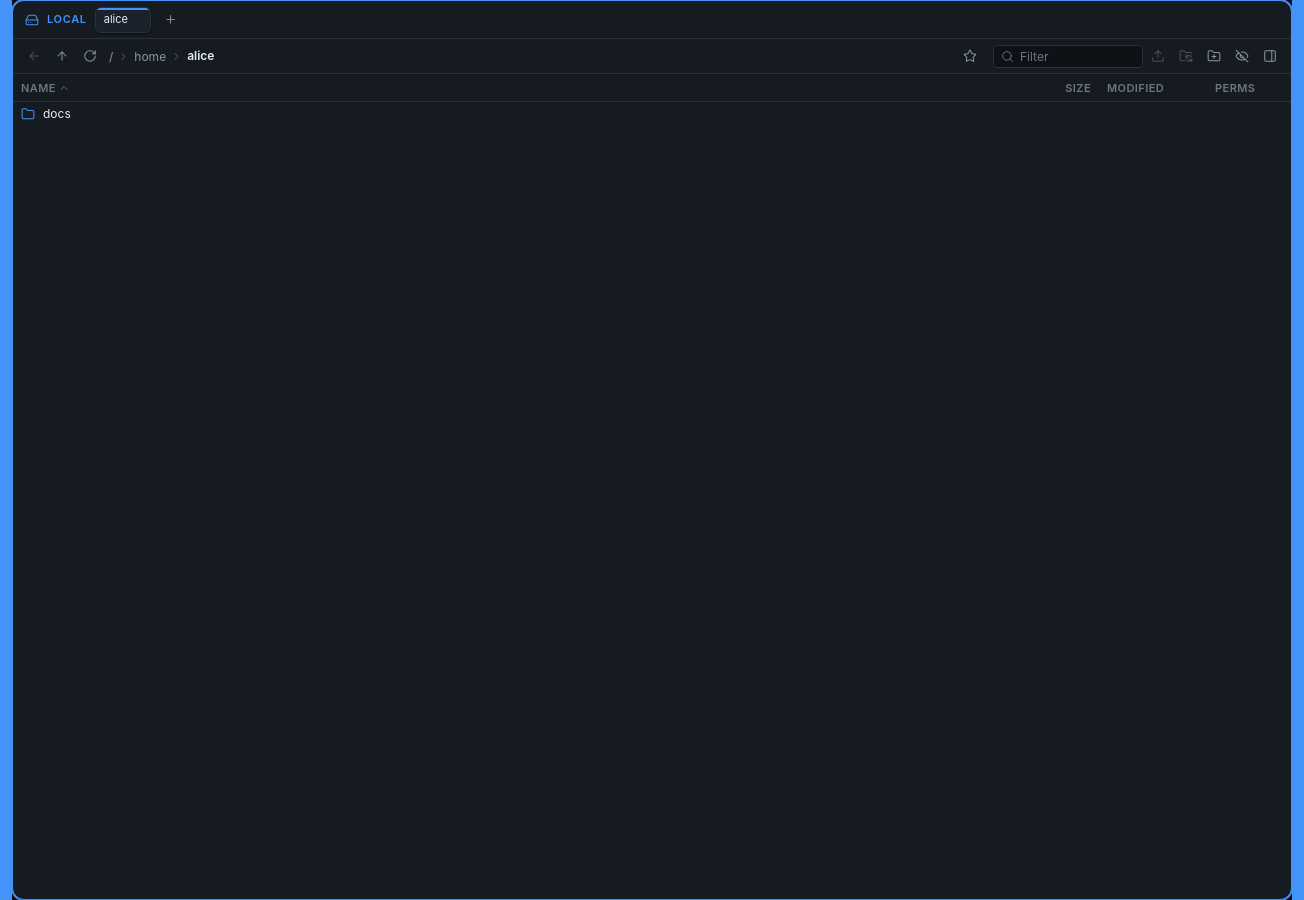
Scenario: Up in a pane › selects the folder you came from
Expected: the text "docs" is shown, [43,105,71,123]
Click the button named "Up" at (62, 56), box [49,43,75,69]
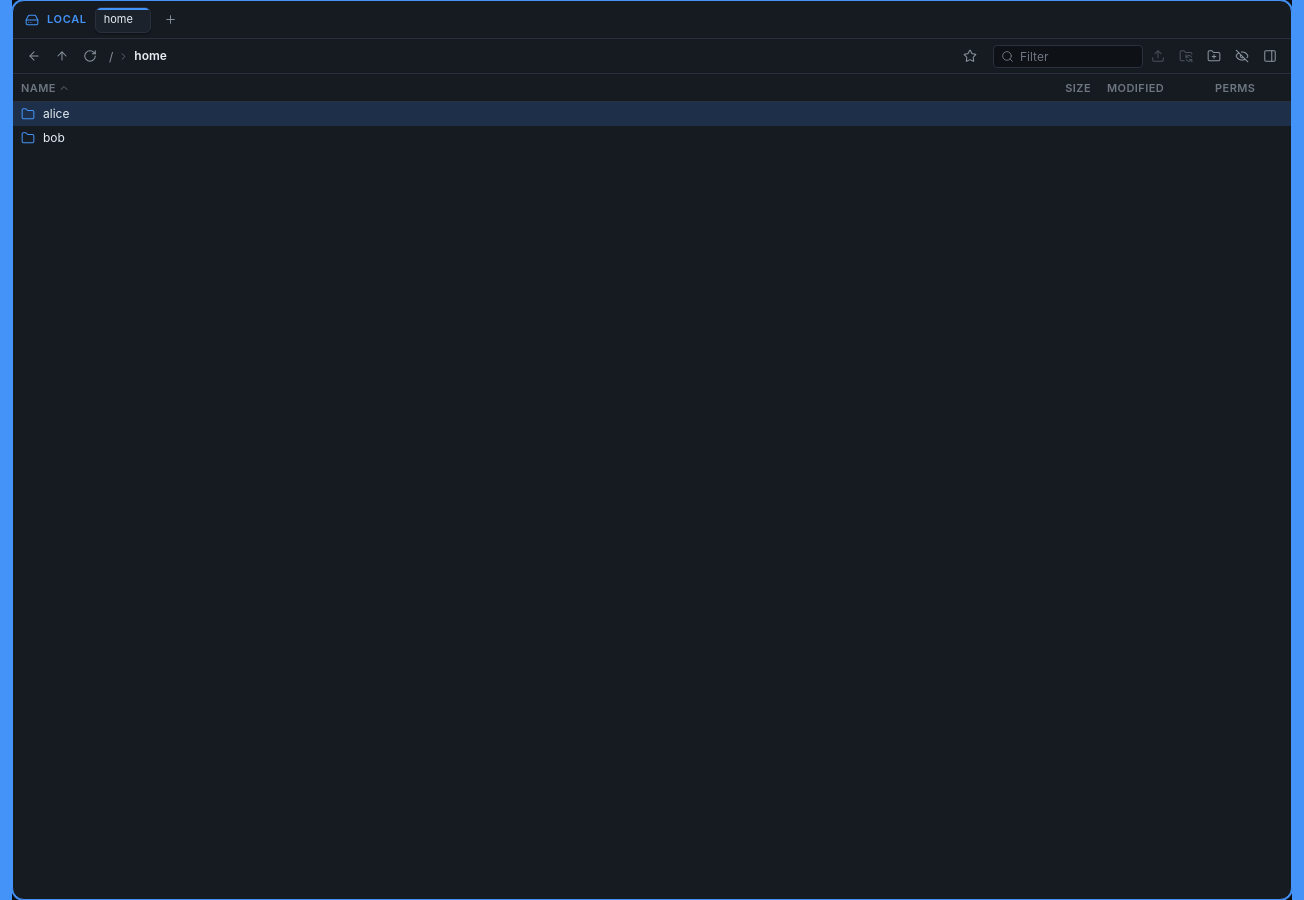
Expected: the text "alice" is shown, [13,102,1291,126]
Now the text "bob" is shown, box [43,129,65,147]
